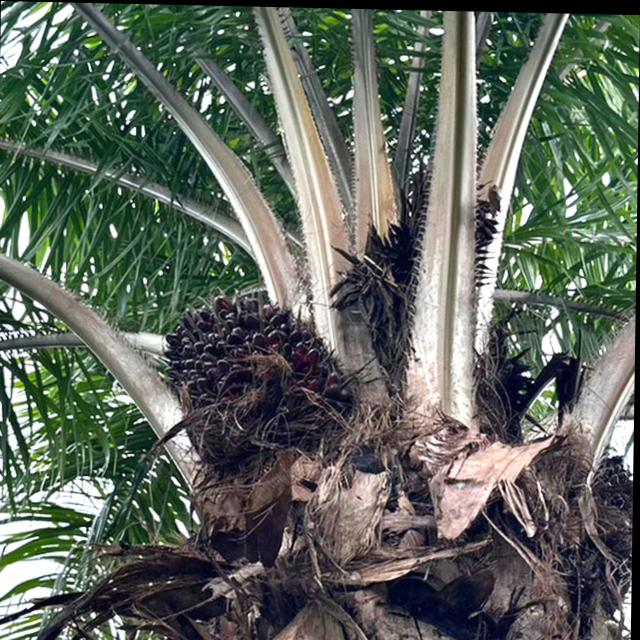almost: (153, 282, 370, 480)
